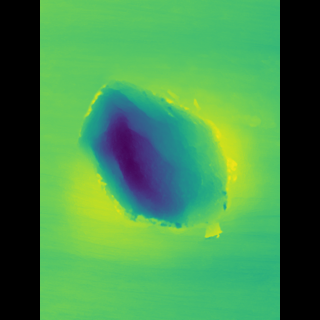Loch: (89, 74, 239, 239)
